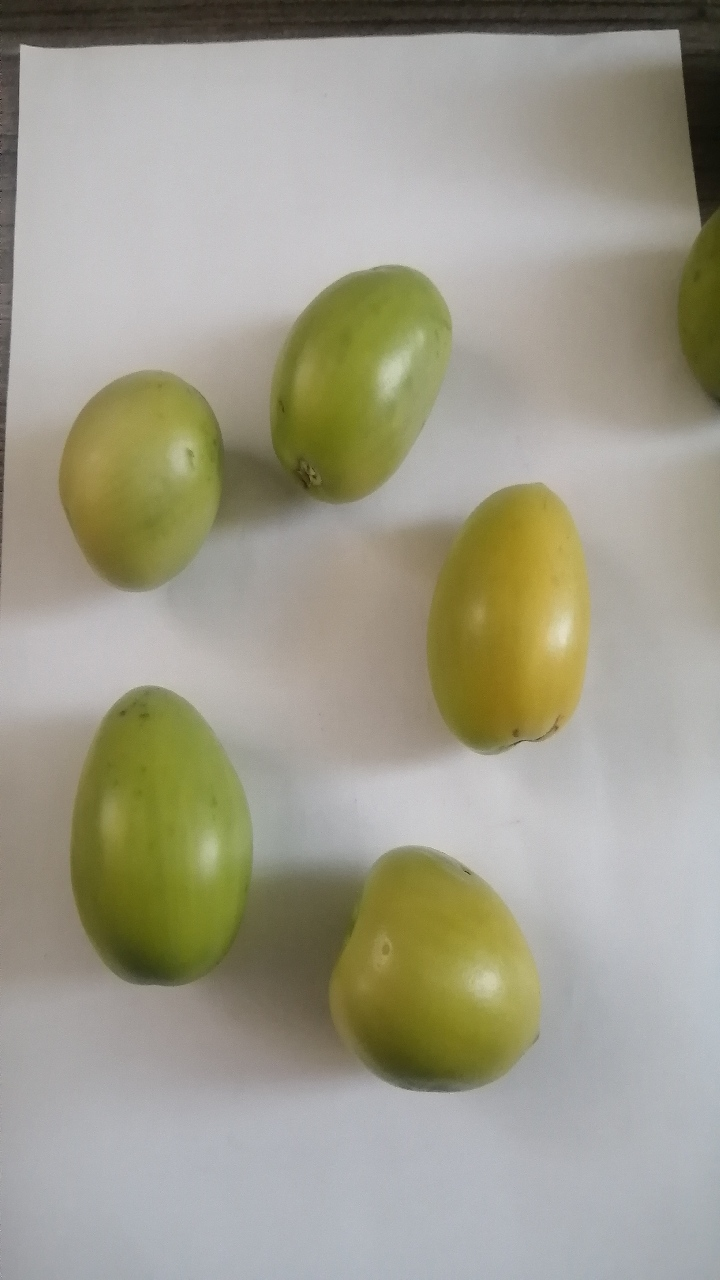tomateVerde: (309, 820, 557, 1112), (48, 666, 246, 1000), (395, 469, 609, 768), (26, 337, 243, 605), (257, 245, 454, 532)
